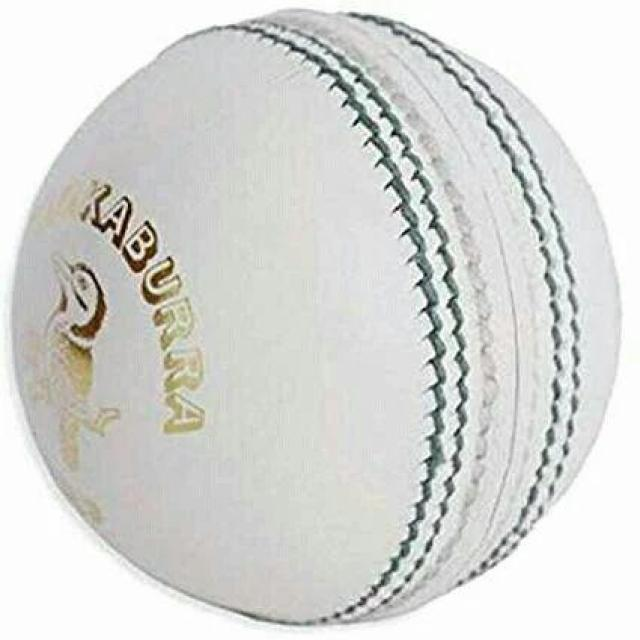ball: (15, 12, 620, 623)
